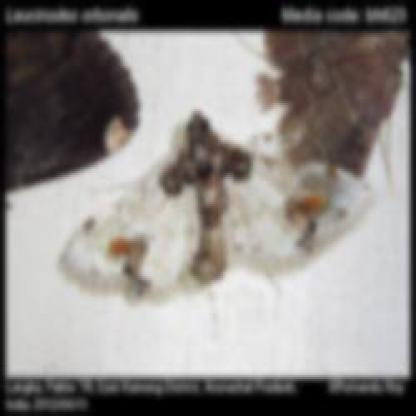leucinodes: (55, 108, 371, 308)
